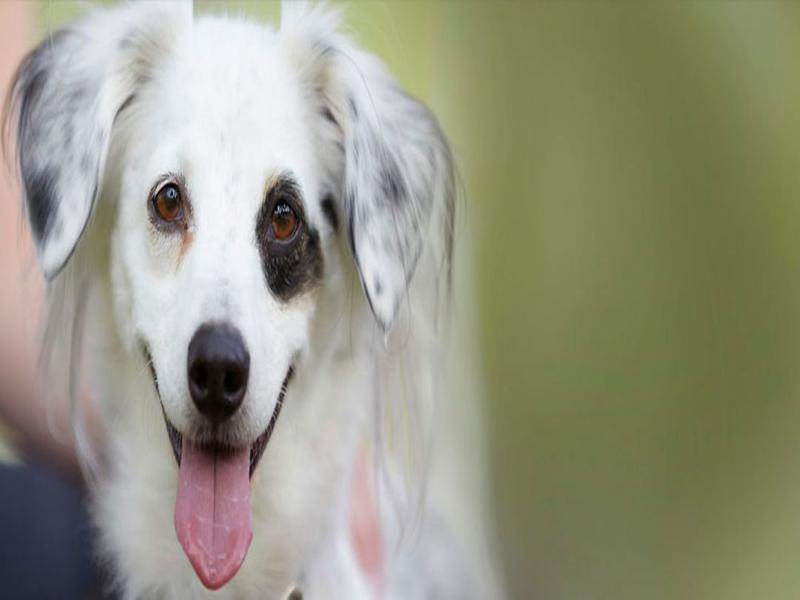dog: (12, 3, 457, 596)
